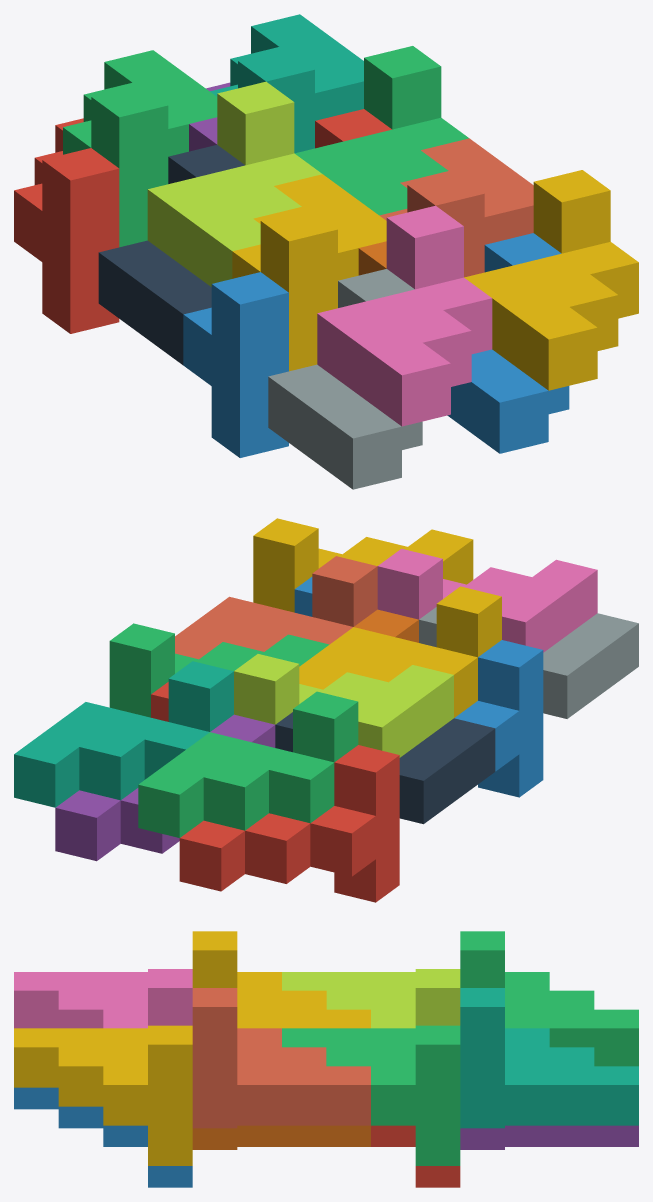
File: tiling.obj
3 renders of one model, top to bottom at view 1: azimuth 30°, elevation 25°; view 2: azimuth 150°, elevation 25°; view 3: azimuth 270°, elevation 25°, orthographic. The views are drawn at different scales.
Visible parts, largest first — view 1: copy_2_domain_4, copy_2_domain_8, copy_2_domain_3, copy_1_domain_1, copy_1_domain_3, copy_1_domain_2, copy_1_domain_4, copy_2_domain_7, copy_2_domain_2, copy_2_domain_1, copy_1_domain_7, copy_2_domain_6 (+4 smaller); view 2: copy_1_domain_1, copy_1_domain_3, copy_1_domain_7, copy_2_domain_4, copy_2_domain_3, copy_1_domain_4, copy_1_domain_8, copy_1_domain_2, copy_2_domain_8, copy_2_domain_1, copy_2_domain_2, copy_2_domain_7 (+4 smaller); view 3: copy_1_domain_8, copy_1_domain_7, copy_2_domain_8, copy_2_domain_7, copy_1_domain_3, copy_2_domain_4, copy_1_domain_4, copy_2_domain_3, copy_2_domain_6, copy_1_domain_6, copy_1_domain_5, copy_2_domain_5.
Part boxes in pixels (x1,y1,x2,y2): copy_2_domain_4: [317, 205, 492, 426]; copy_2_domain_8: [464, 170, 638, 390]; copy_2_domain_3: [147, 81, 322, 286]; copy_1_domain_1: [14, 118, 119, 333]; copy_1_domain_3: [63, 50, 217, 247]; copy_1_domain_2: [183, 272, 288, 457]; copy_1_domain_4: [232, 174, 386, 371]; copy_2_domain_7: [295, 46, 468, 215]; copy_2_domain_2: [268, 269, 422, 489]; copy_2_domain_1: [98, 145, 244, 364]; copy_1_domain_7: [210, 14, 363, 153]; copy_2_domain_6: [447, 233, 569, 453]; copy_1_domain_1: [179, 745, 399, 902]; copy_1_domain_3: [138, 691, 358, 837]; copy_1_domain_7: [14, 661, 233, 807]; copy_2_domain_4: [377, 548, 597, 652]; copy_2_domain_3: [234, 654, 453, 757]; copy_1_domain_4: [299, 586, 501, 717]; copy_1_domain_8: [175, 556, 377, 659]; copy_1_domain_2: [454, 640, 543, 797]; copy_2_domain_8: [253, 518, 473, 612]; copy_2_domain_1: [275, 712, 495, 824]; copy_2_domain_2: [419, 607, 638, 718]; copy_2_domain_7: [109, 623, 329, 717]; copy_1_domain_8: [192, 988, 370, 1128]; copy_1_domain_7: [460, 988, 638, 1128]; copy_2_domain_8: [14, 1025, 192, 1165]; copy_2_domain_7: [282, 1025, 460, 1165]; copy_1_domain_3: [460, 931, 638, 1066]; copy_2_domain_4: [14, 969, 192, 1028]; copy_1_domain_4: [192, 931, 370, 1028]; copy_2_domain_3: [282, 969, 460, 1028]; copy_2_domain_6: [14, 1087, 192, 1187]; copy_1_domain_6: [192, 1125, 370, 1149]; copy_1_domain_5: [460, 1125, 638, 1149]; copy_2_domain_5: [371, 1125, 460, 1187].
Bounding box in the file's own units: 7 × 4 × 14.
